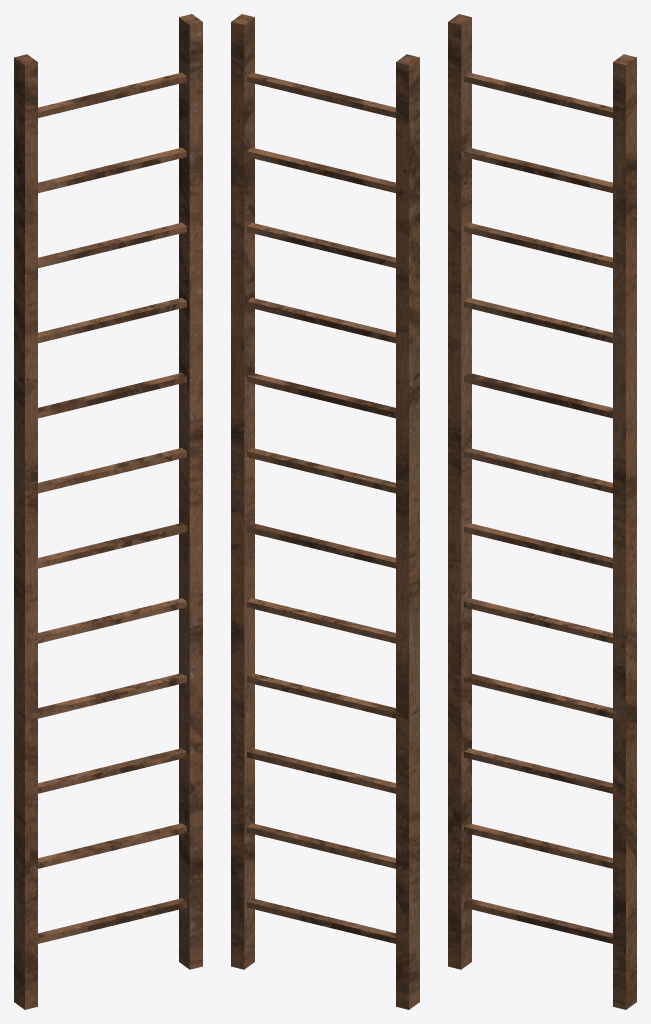
File: ladder.glb
The picture shows the model from 3 angles, left to right: view 1: azimuth 30°, elevation 25°; view 2: azimuth 150°, elevation 25°; view 3: azimuth 330°, elevation 25°; orthographic projection.
Visible parts, largest first — view 1: pCube16, pCube15; view 2: pCube16, pCube15; view 3: pCube16, pCube15.
Boxes of the visible parts, x1,y1,x2,y2 form: pCube16: (14, 14, 202, 1009); pCube15: (38, 72, 186, 943); pCube16: (231, 14, 419, 1009); pCube15: (247, 72, 395, 943); pCube16: (448, 14, 636, 1009); pCube15: (464, 72, 612, 943).
Bounding box in the file's own units: 0.5815 × 2.95 × 0.0609.
Materials: 2 (2 with a texture image).
